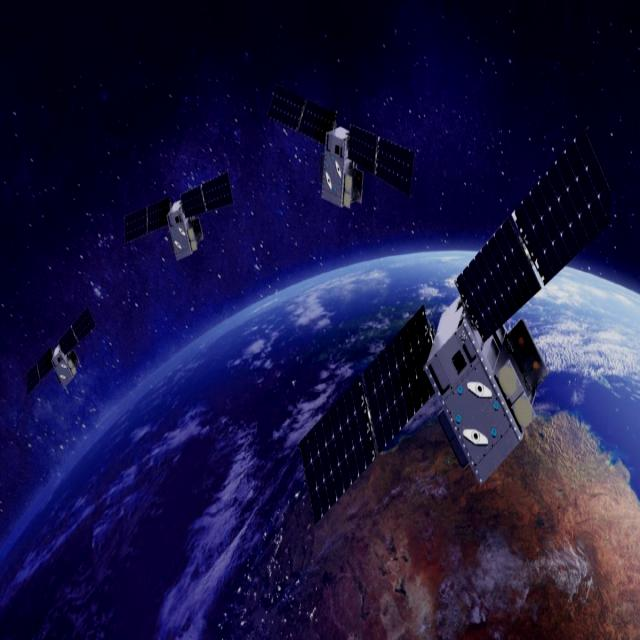satellite: (305, 135, 616, 522), (242, 76, 410, 241), (119, 166, 232, 282), (17, 301, 102, 418)
